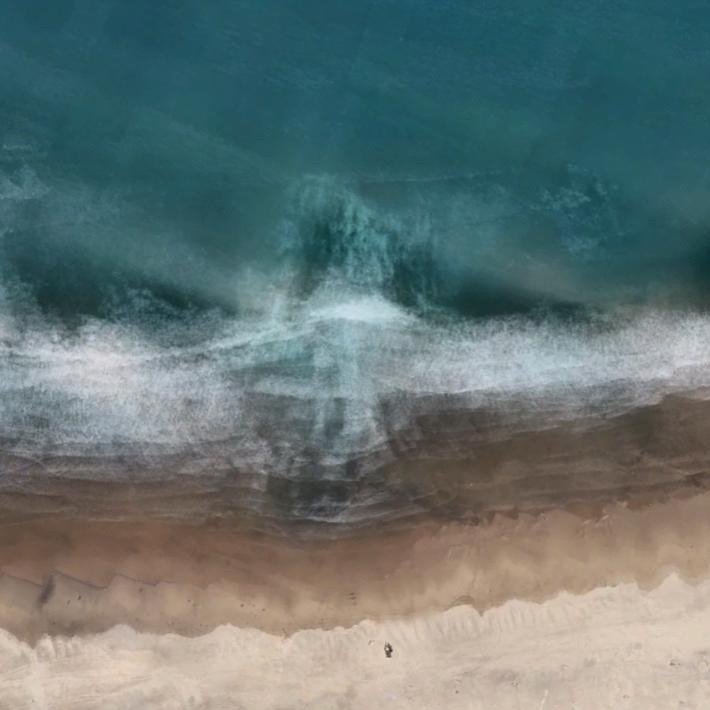rip_current: (217, 139, 443, 535)
